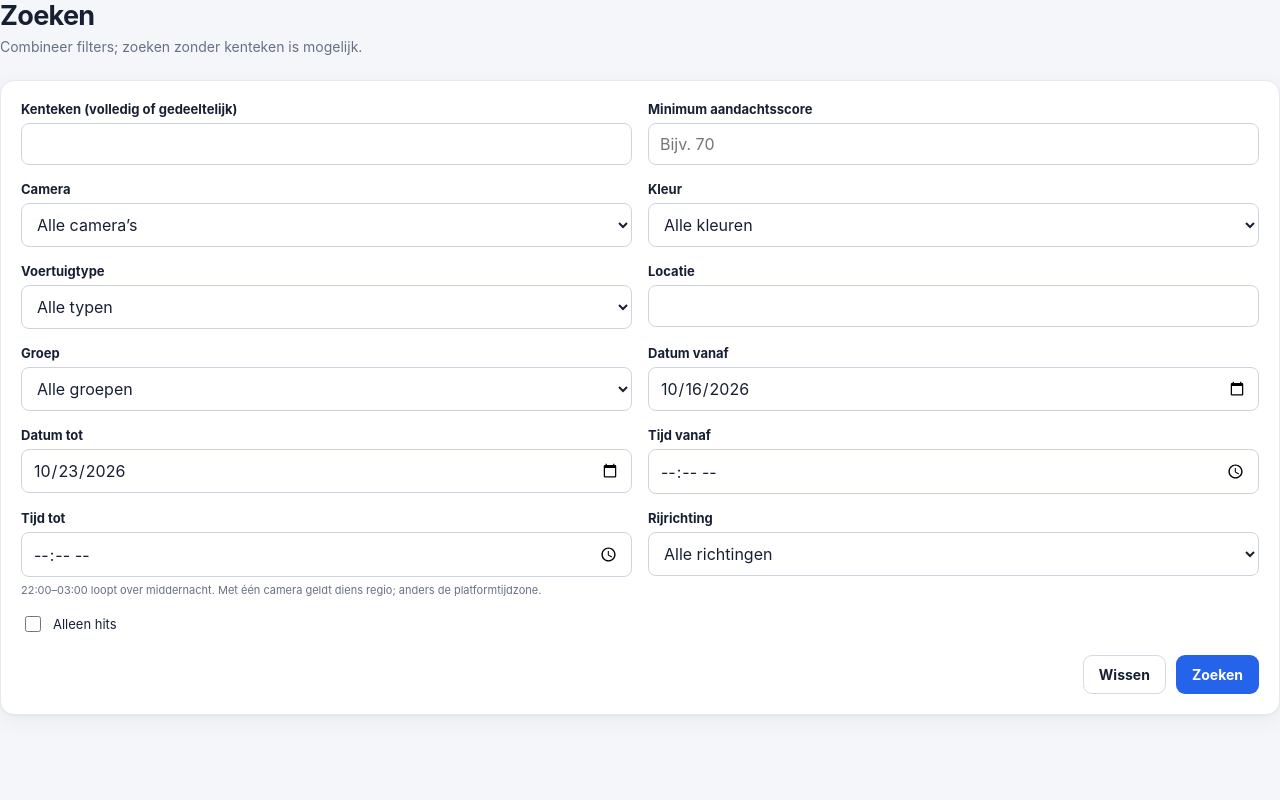
Test: direction across passage views › shows stored INCOMING consistently
The width and height of the screenshot is (1280, 800).
Select "Inkomend" in the dropdown named "Alle richtingen" below "Rijrichting". click: [954, 554]
box: [648,532,1259,576]
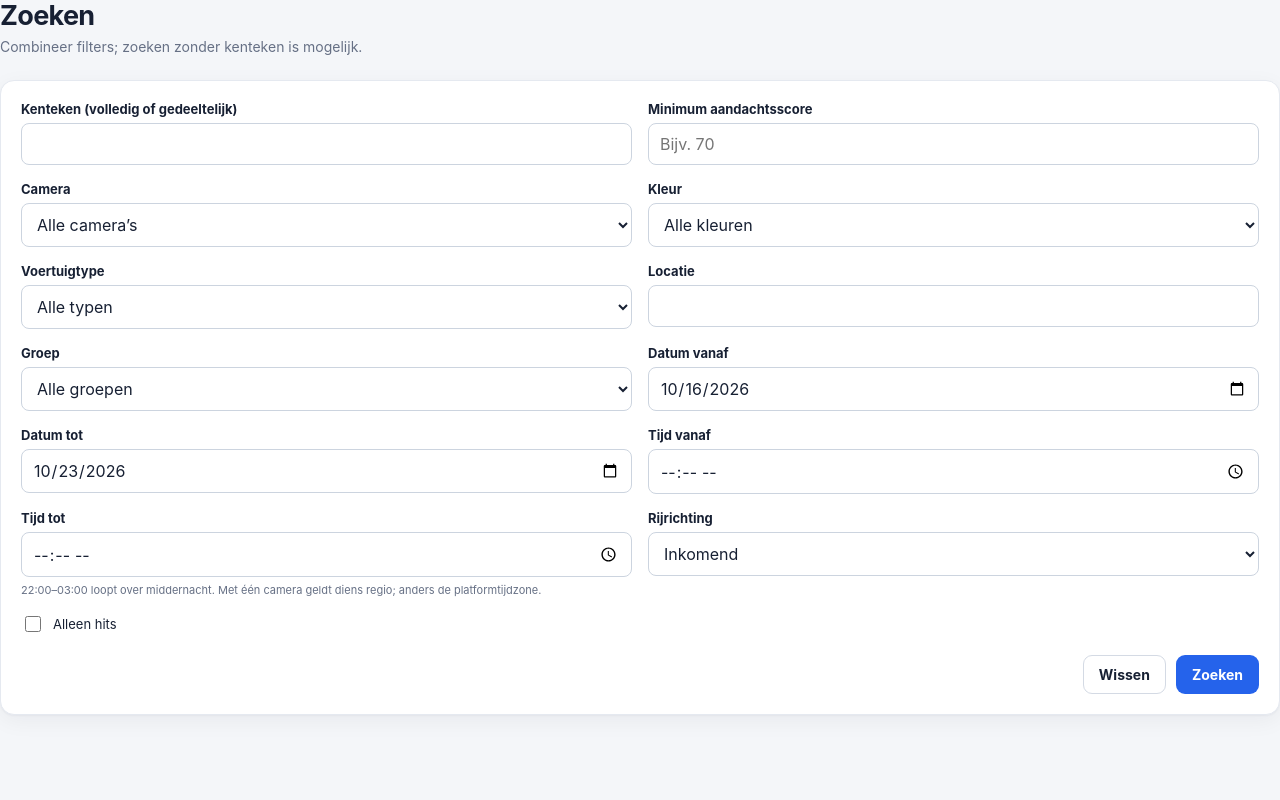
Click the button "Zoeken". click: [1217, 674]
box: [1176,655,1259,694]
(page scrolled)
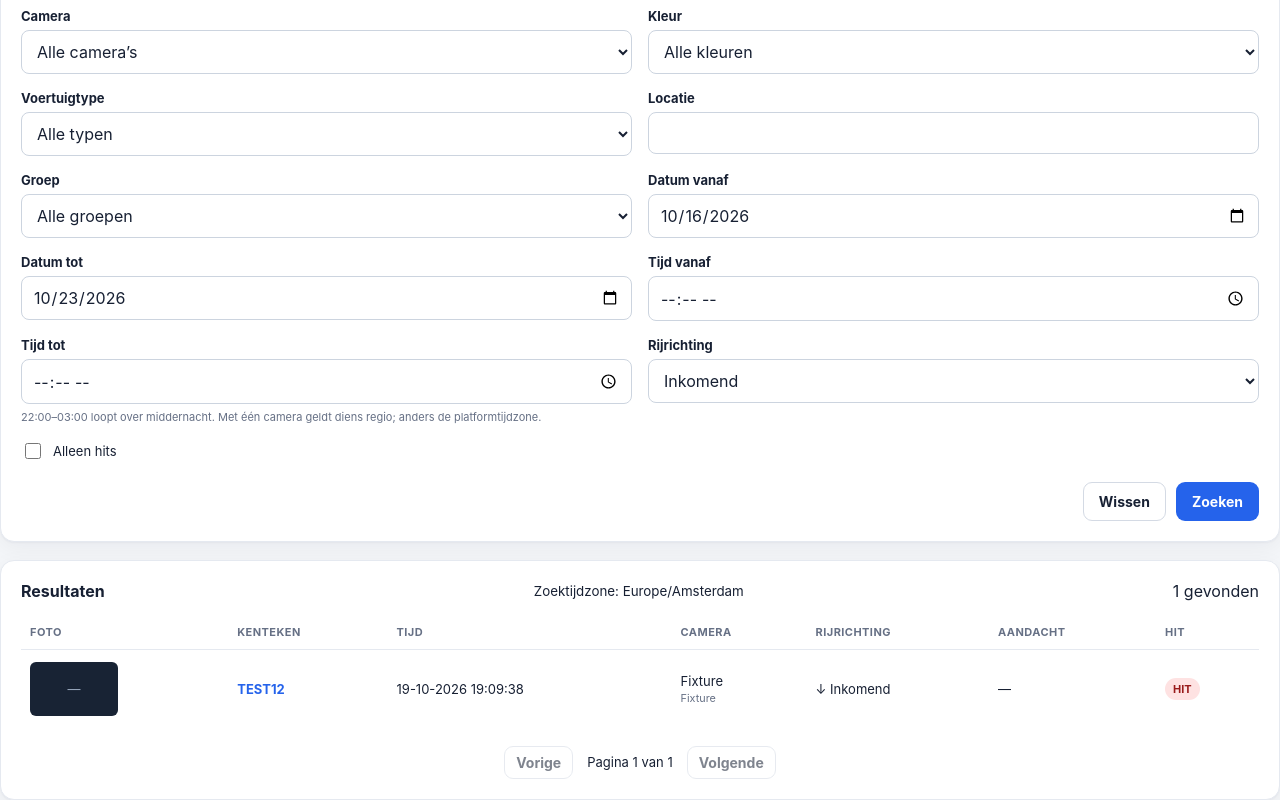
Check: the text "TEST12" is shown, box [237,681,285,697]
Check: the cell "↓ Inkomend" is shown, box [807,650,989,728]
